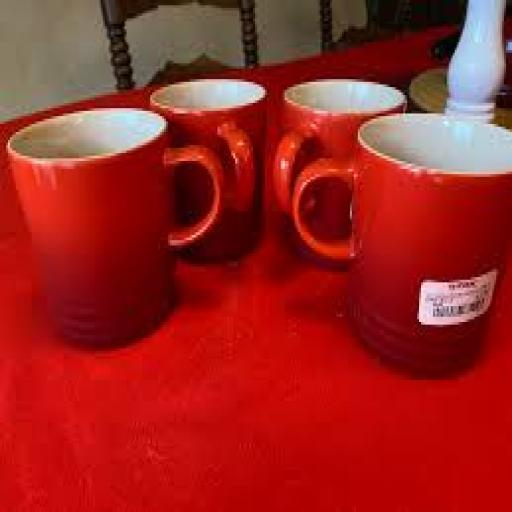red mug: (293, 114, 511, 374), (8, 109, 223, 343), (151, 80, 266, 261), (273, 80, 407, 216)
